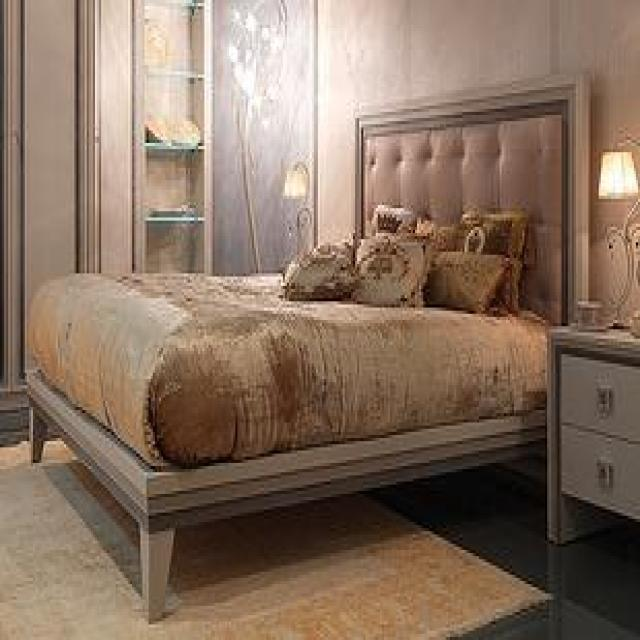bed: (23, 69, 590, 622)
